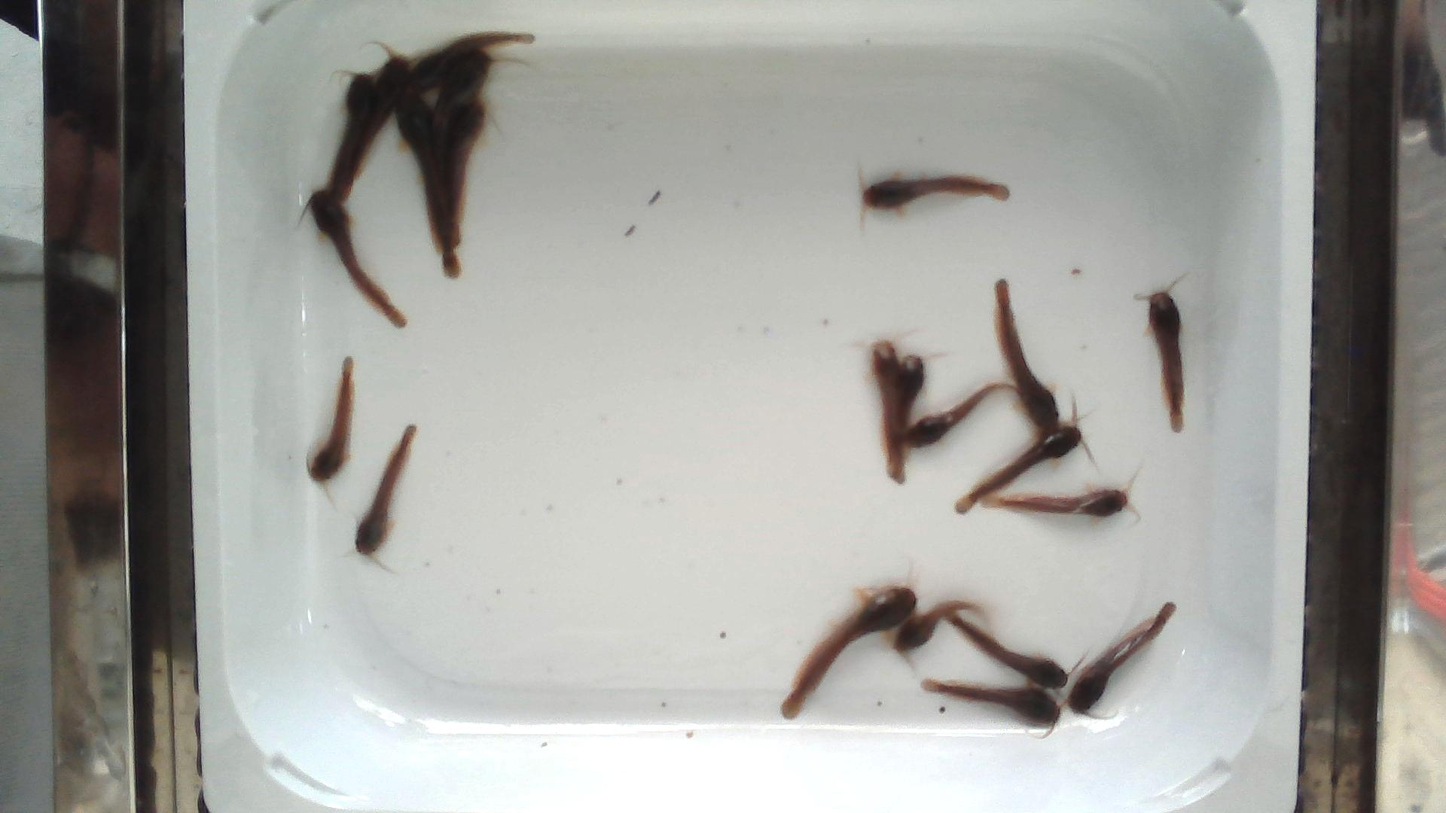lele: (782, 586, 916, 718), (309, 189, 409, 330), (1066, 602, 1175, 713), (396, 95, 461, 277), (956, 426, 1081, 512), (339, 54, 408, 200), (434, 47, 503, 193), (996, 280, 1057, 437), (947, 615, 1066, 688), (403, 31, 535, 95), (356, 425, 416, 555), (905, 382, 1009, 448), (439, 101, 484, 246), (923, 679, 1059, 725), (308, 357, 354, 482), (1144, 290, 1183, 432), (327, 73, 374, 190), (863, 174, 1009, 209), (982, 488, 1128, 517), (895, 601, 976, 652), (870, 338, 898, 478), (895, 353, 924, 483)
